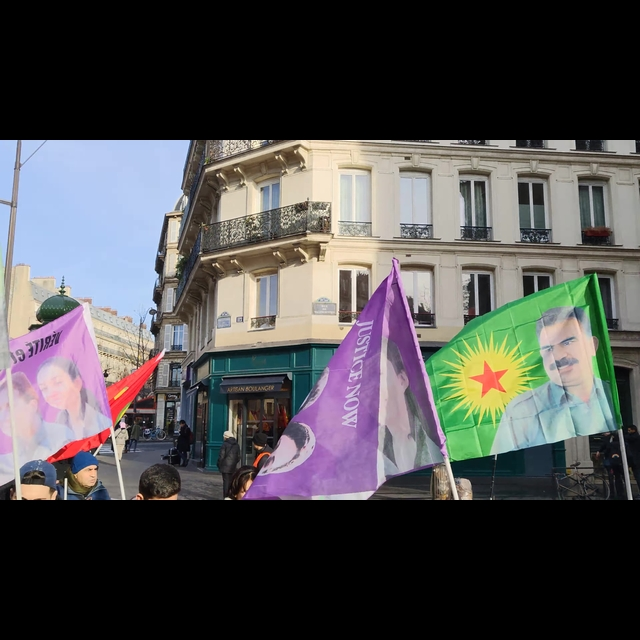KCK: (441, 336, 540, 425)
